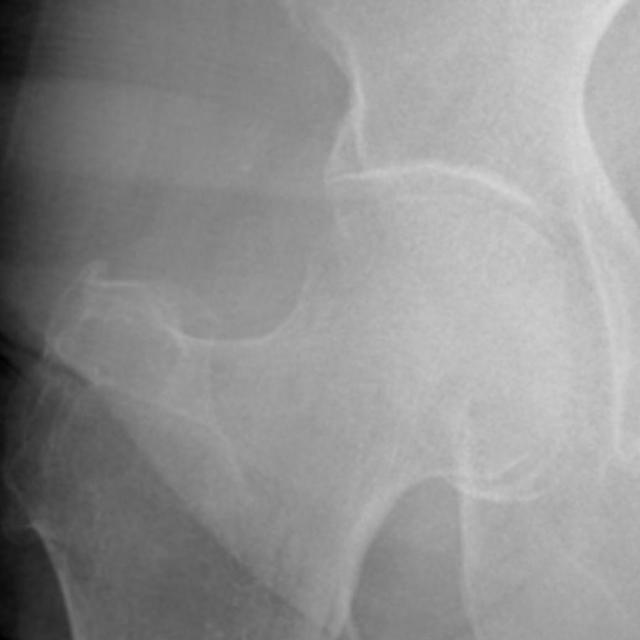Fitted_femural_head: (302, 193, 432, 302)
